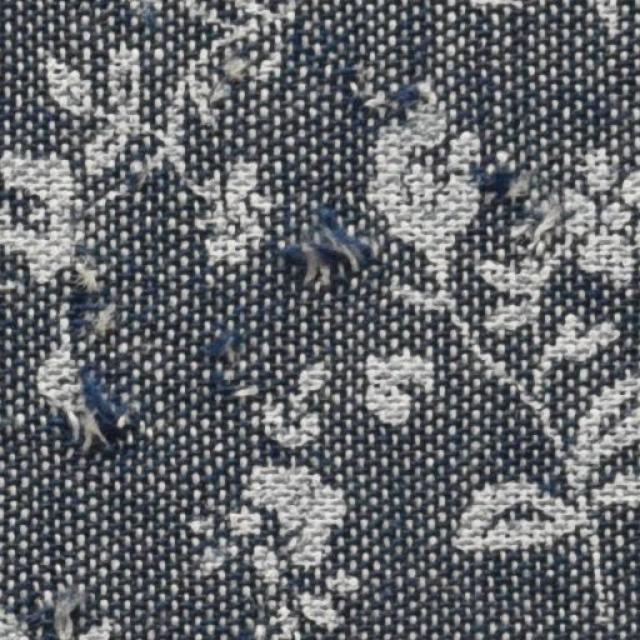Snag: (37, 270, 146, 464), (265, 215, 363, 297), (11, 575, 98, 639), (194, 319, 253, 386), (368, 82, 422, 127), (468, 151, 519, 198)
